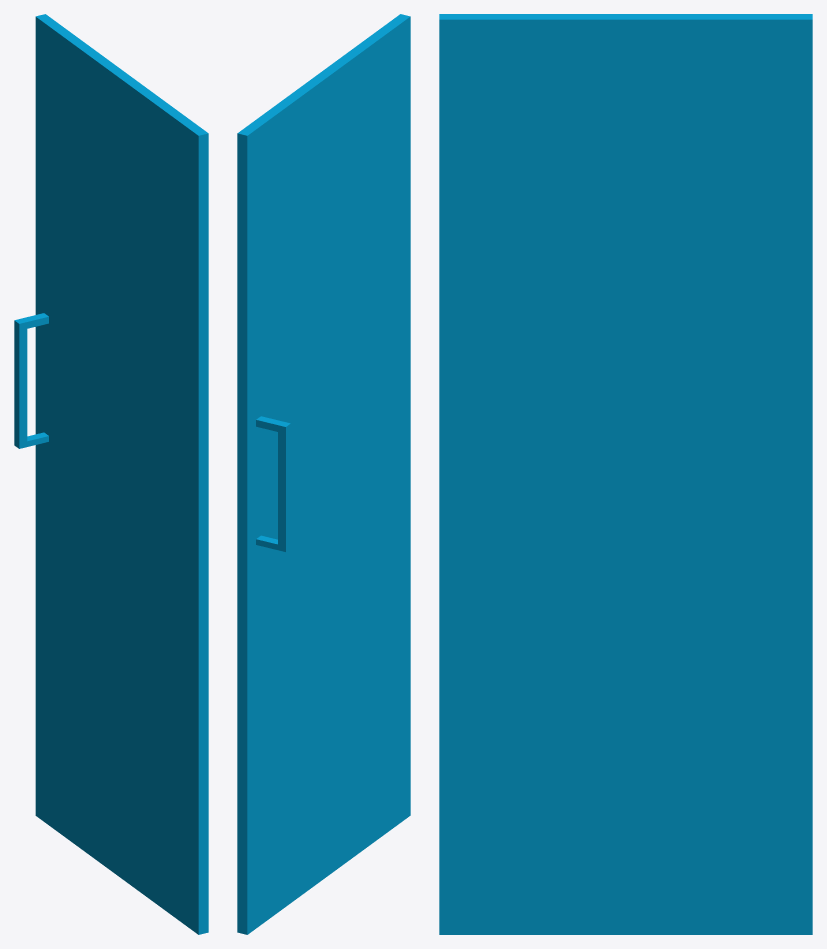
The model's file is Office_Cupboard_02_Door_02_Lod0.fbx.
3 views of the same model, side by side, from view 1: azimuth 30°, elevation 25°; view 2: azimuth 150°, elevation 25°; view 3: azimuth 270°, elevation 25° (orthographic). The views are drawn at different scales.
Visible parts, largest first — view 1: Office_Cupboard_02_Door_02_Lod0; view 2: Office_Cupboard_02_Door_02_Lod0; view 3: Office_Cupboard_02_Door_02_Lod0.
Part boxes in pixels (x1,y1,x2,y2): Office_Cupboard_02_Door_02_Lod0: (14,14,208,934); Office_Cupboard_02_Door_02_Lod0: (237,14,410,934); Office_Cupboard_02_Door_02_Lod0: (439,14,812,934).
Size of the model in its own units: 4.07 by 77.88 by 28.81.
